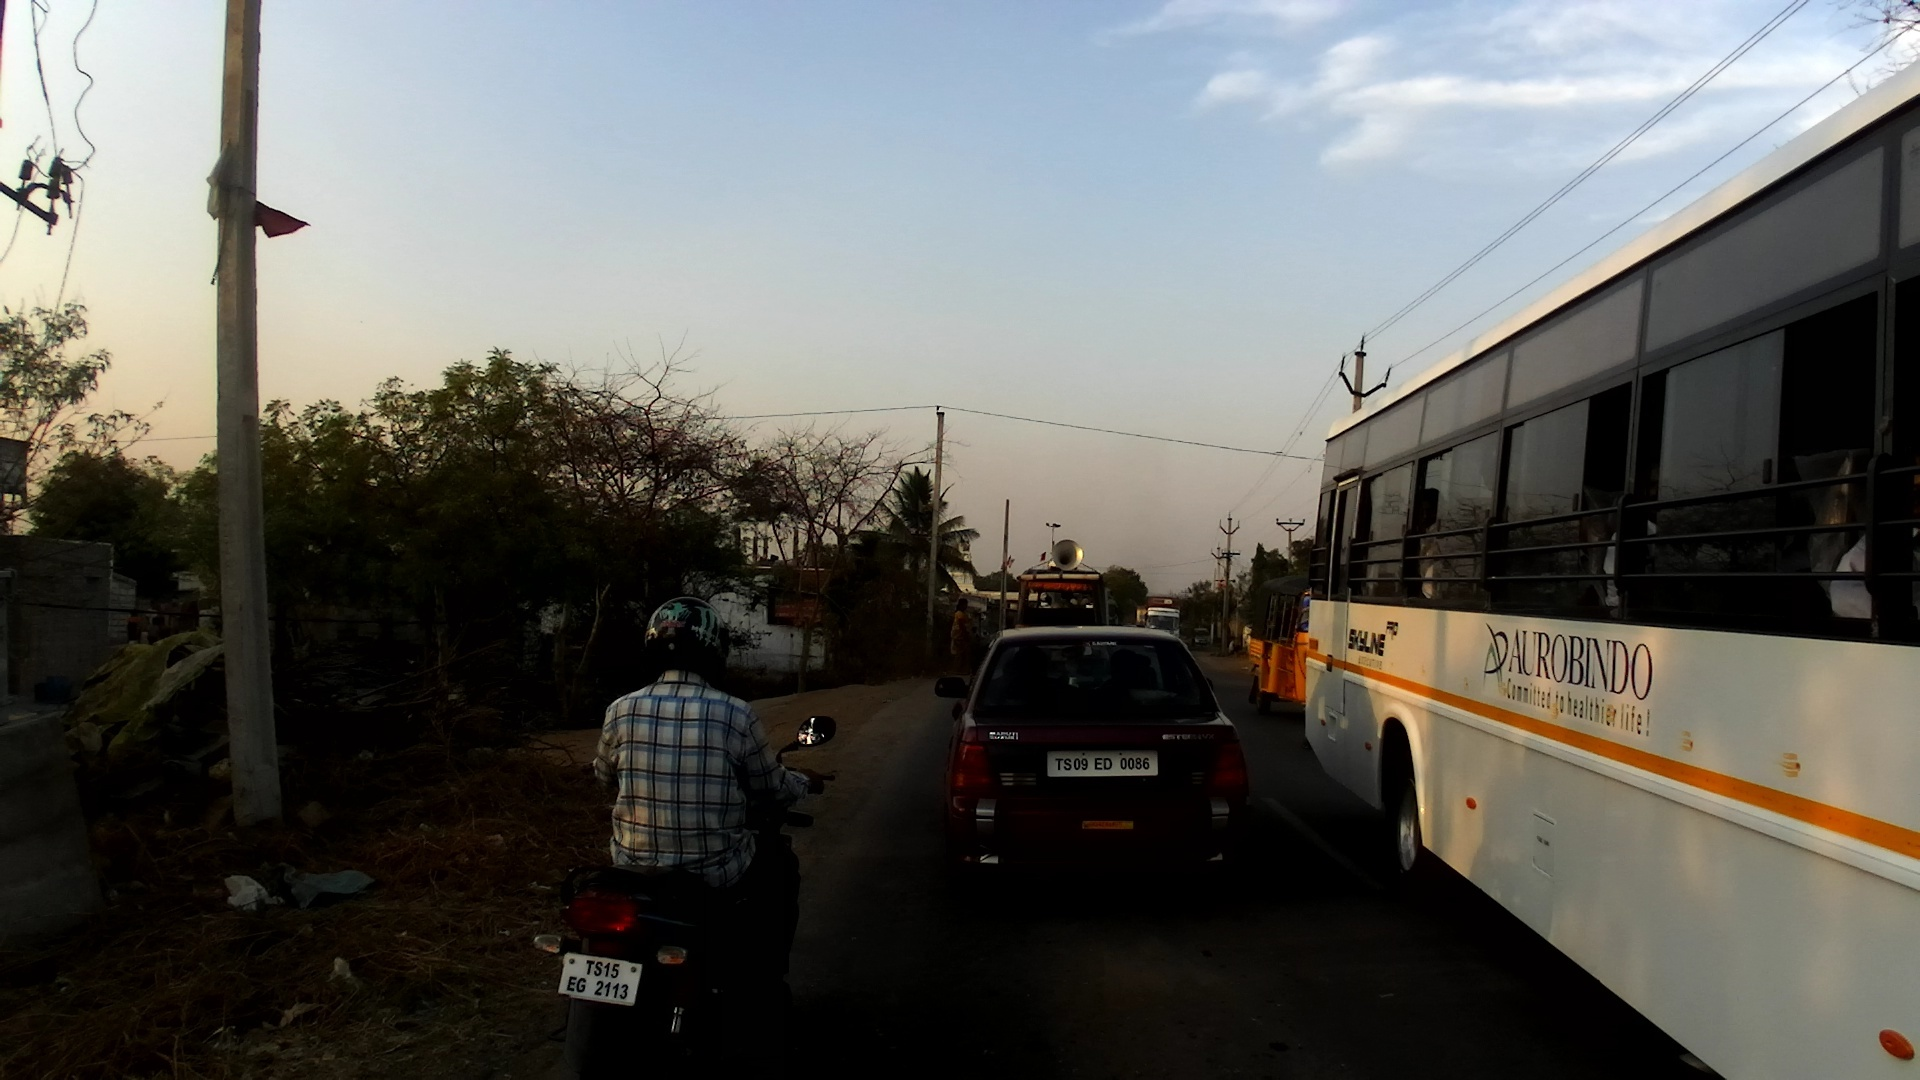autorickshaw: (1247, 572, 1318, 712), (1010, 539, 1116, 626)
bus: (1304, 58, 1920, 1080)
car: (929, 626, 1252, 906), (1190, 626, 1215, 650)
motorcycle: (535, 712, 839, 1080)
person: (951, 597, 975, 676)
rider: (584, 593, 805, 1026)
truck: (1132, 592, 1185, 639)
